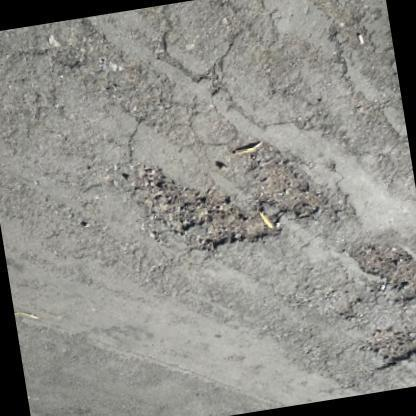pothole: (128, 161, 336, 250), (52, 26, 182, 116), (304, 1, 385, 66), (350, 231, 416, 306), (363, 324, 416, 375)
